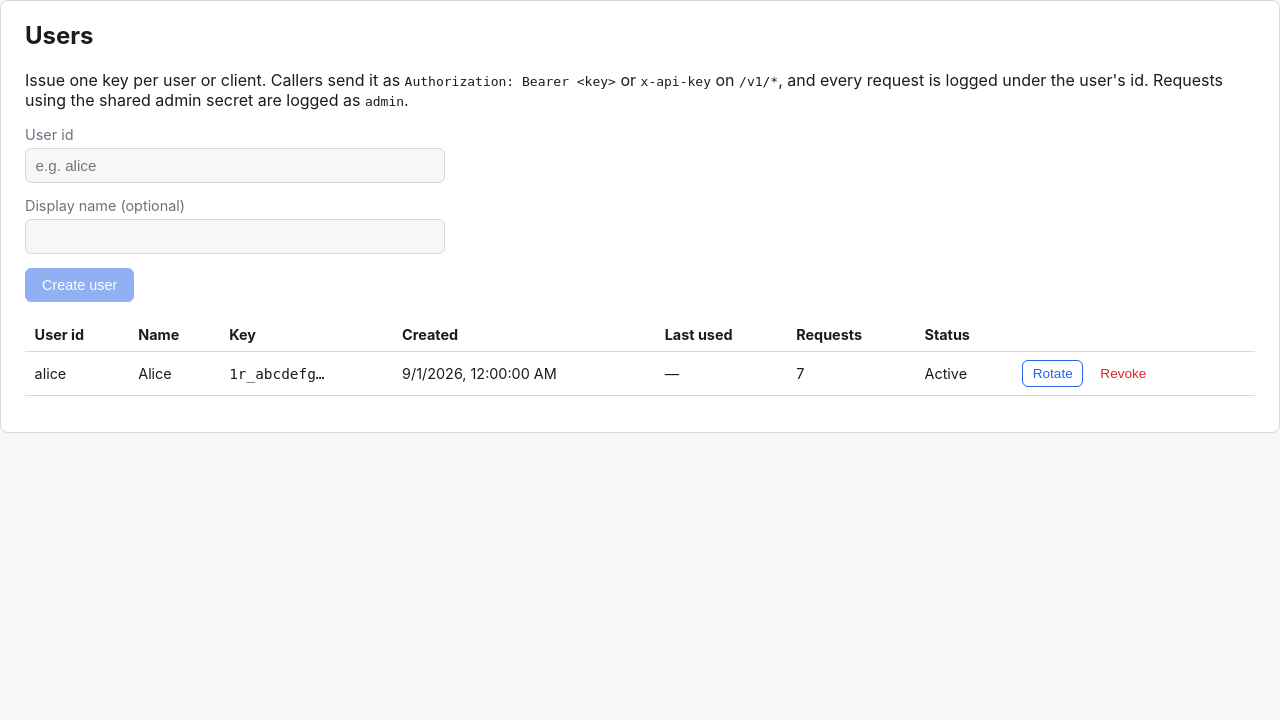
Scenario: Users › revokes_after_confirmation
Click the button with aria-label "Revoke alice".
click(1123, 374)  # box [1090,360,1157,387]
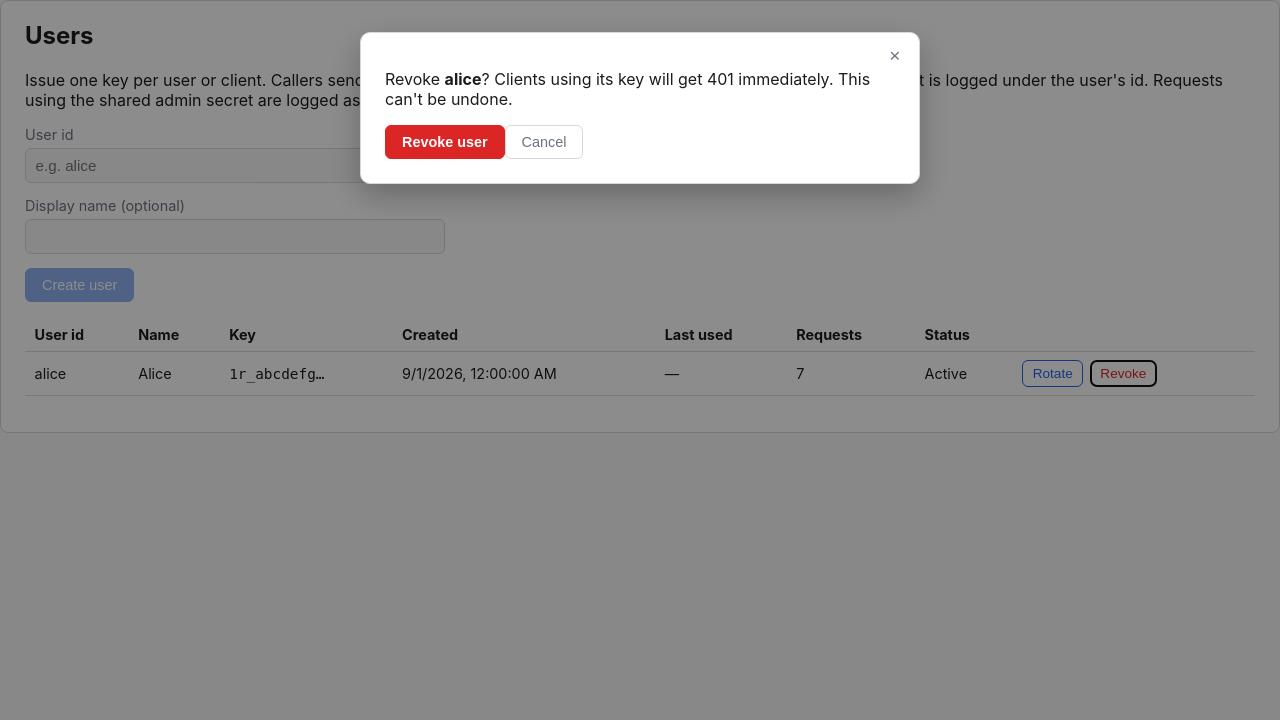
Click the button "Revoke user".
click(445, 142)  # box [385,125,505,159]
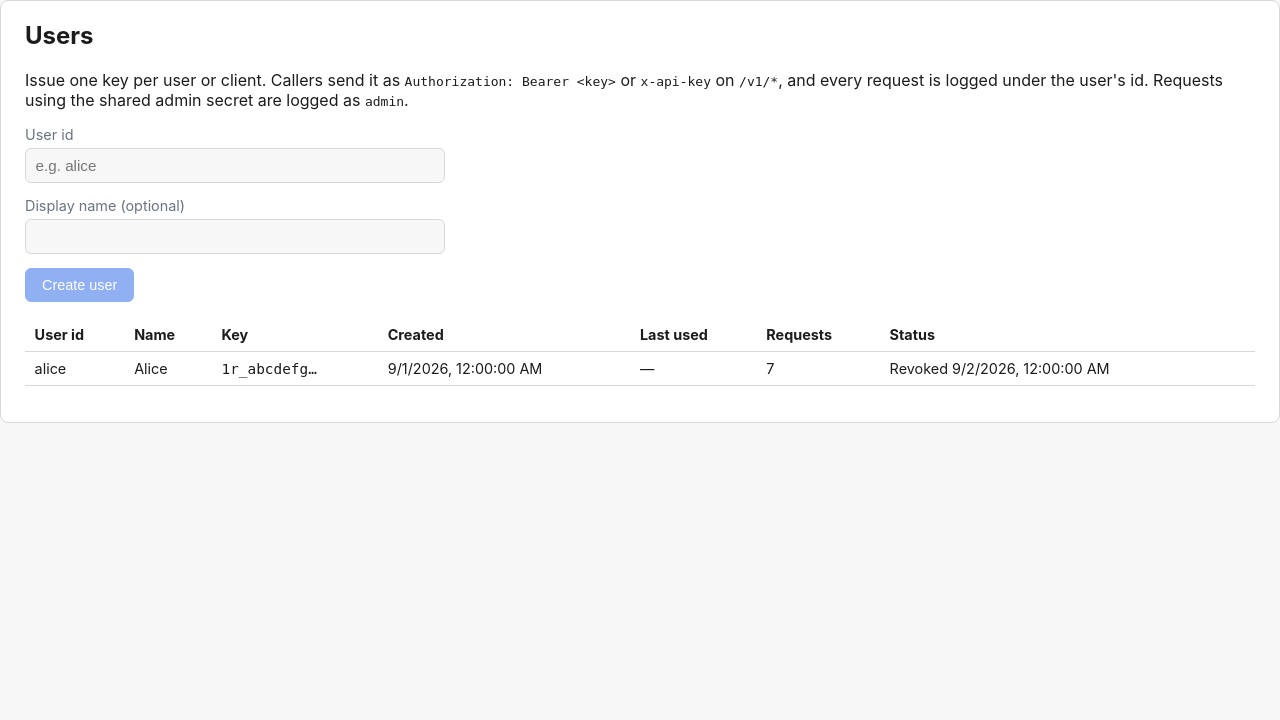
expect the text "Revoked 9/2/2026, 12:00:00 AM" is shown: met, box [880,352,1227,386]
expect the button "Revoke alice" is gone: met
